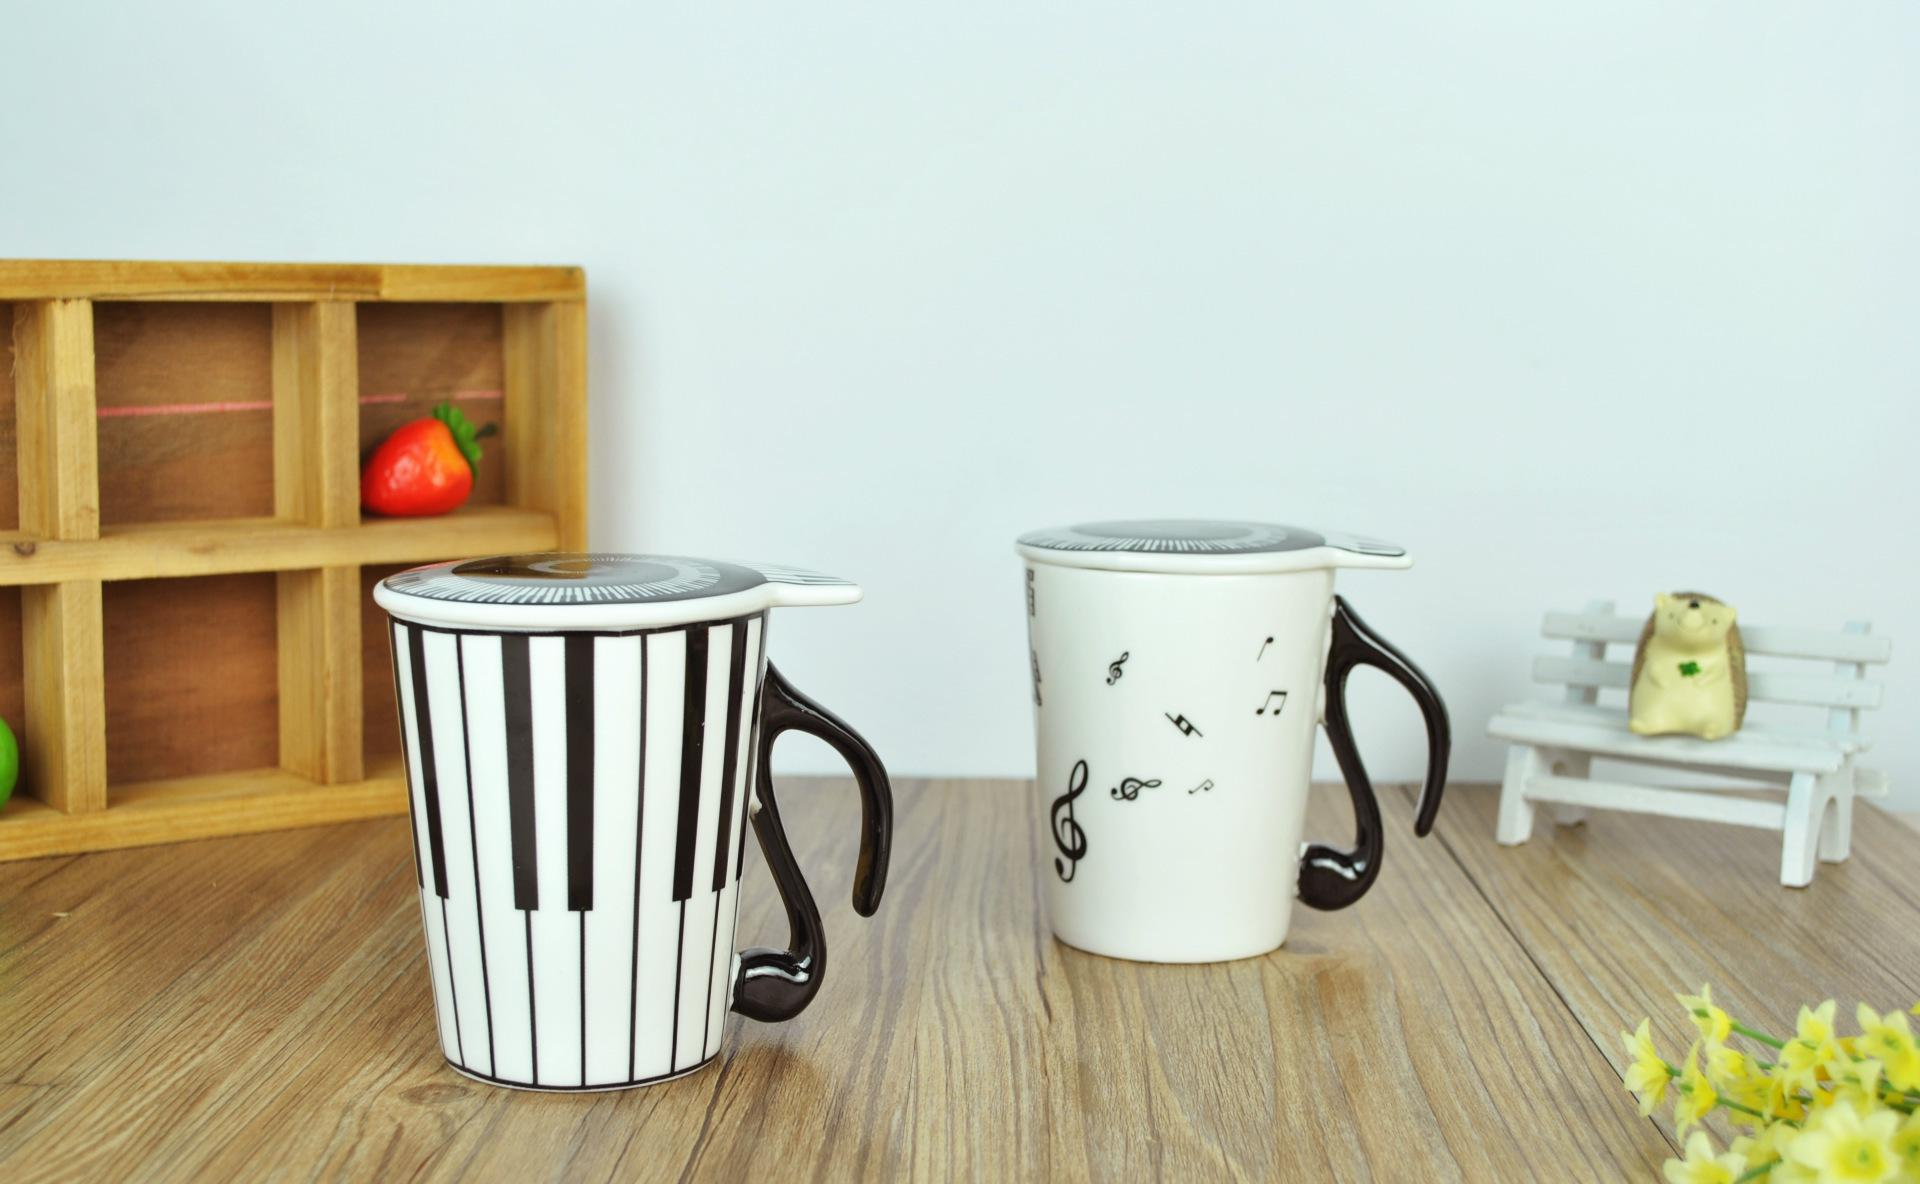cup: (374, 556, 902, 1102), (1015, 519, 1441, 970)
